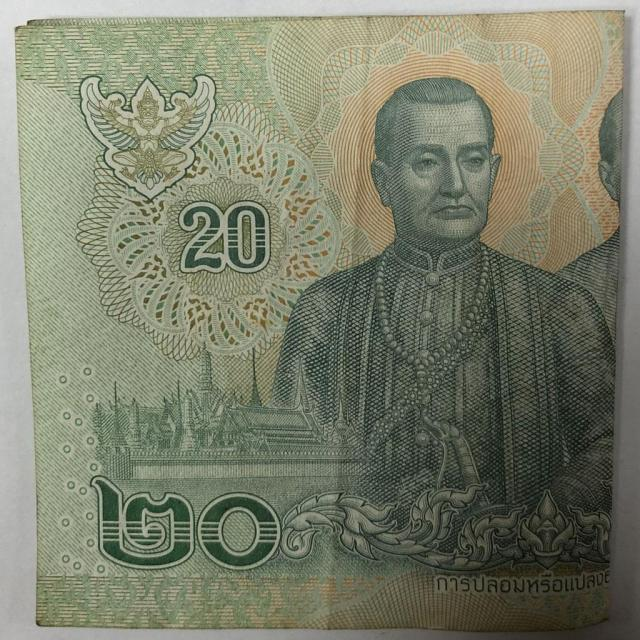THAI20: (16, 11, 625, 629)
